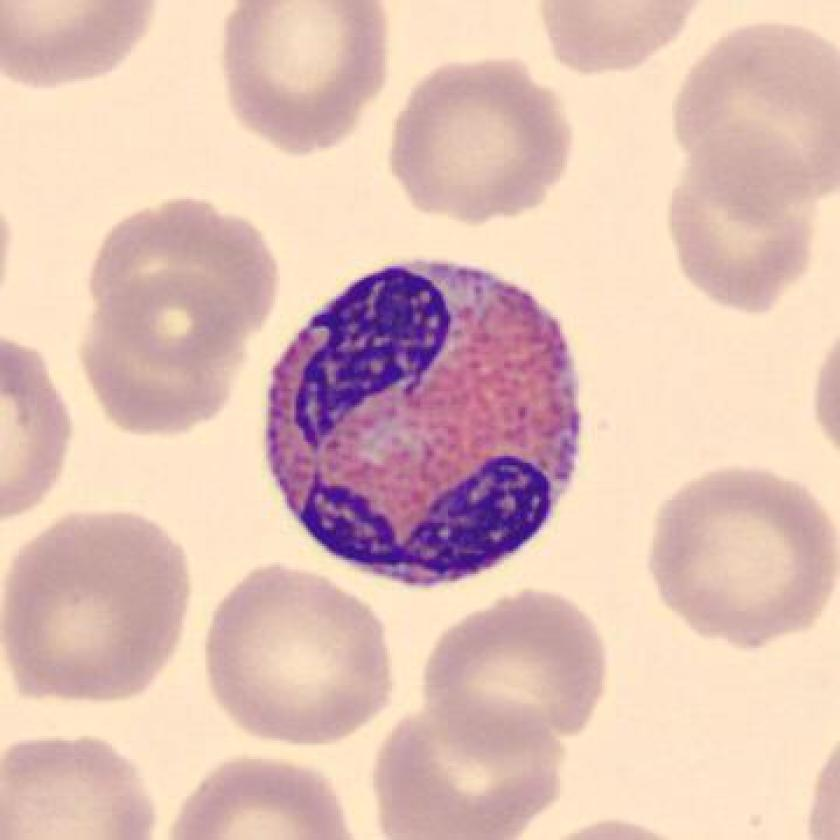eosinophil: (253, 246, 596, 598)
